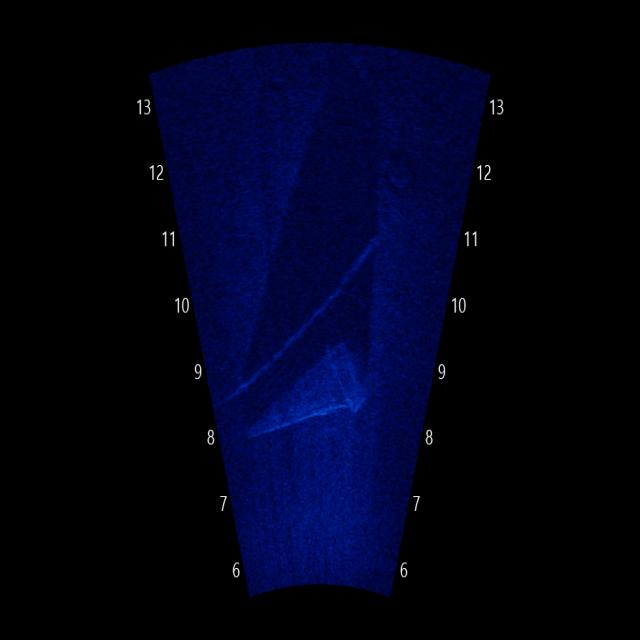triangle: (235, 313, 385, 464)
